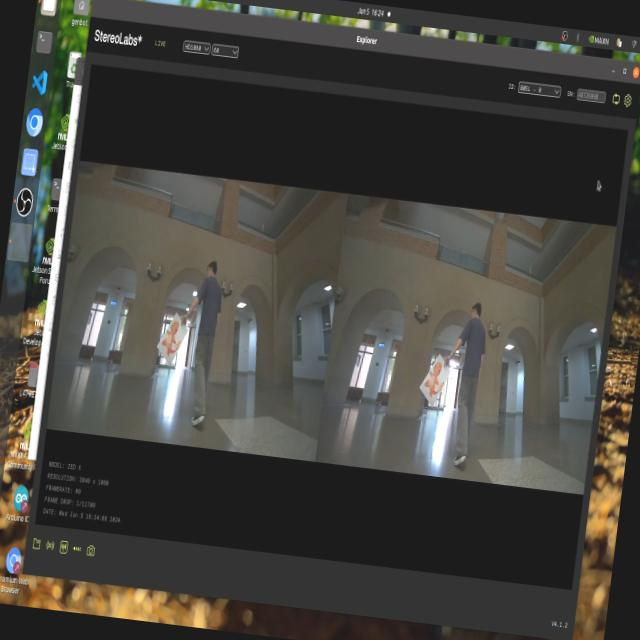red: (152, 311, 187, 366), (427, 353, 442, 398)
